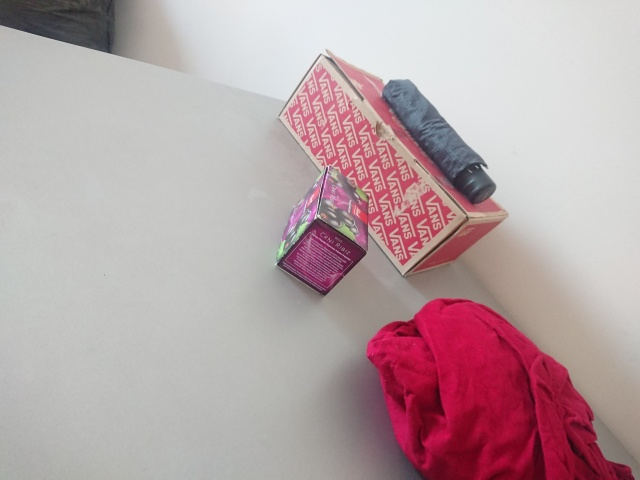Franck Black Currant Tea 60g: (273, 164, 372, 298)
